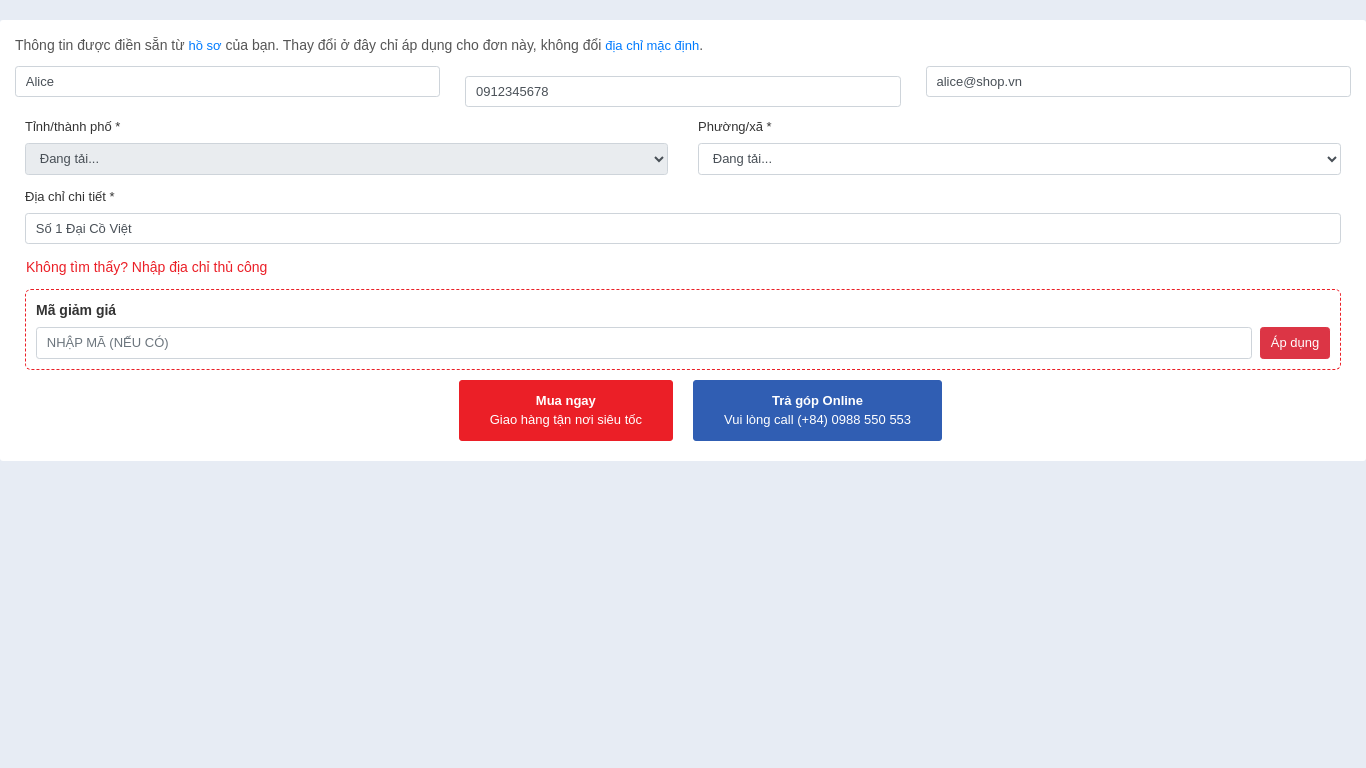
Test case: backend trả 401 khi đặt hàng -> báo phiên hết hạn; lỗi khác hiện thông báo của backend
This screenshot has width=1366, height=768.
Check: the 2nd field named "Số điện thoại (bắt buộc)" holds "0912345678", box 465,76 -> 901,107
Click the button "Mua ngay Giao hàng tận nơi siêu tốc". click: (566, 410)
box: 459,380 -> 673,440
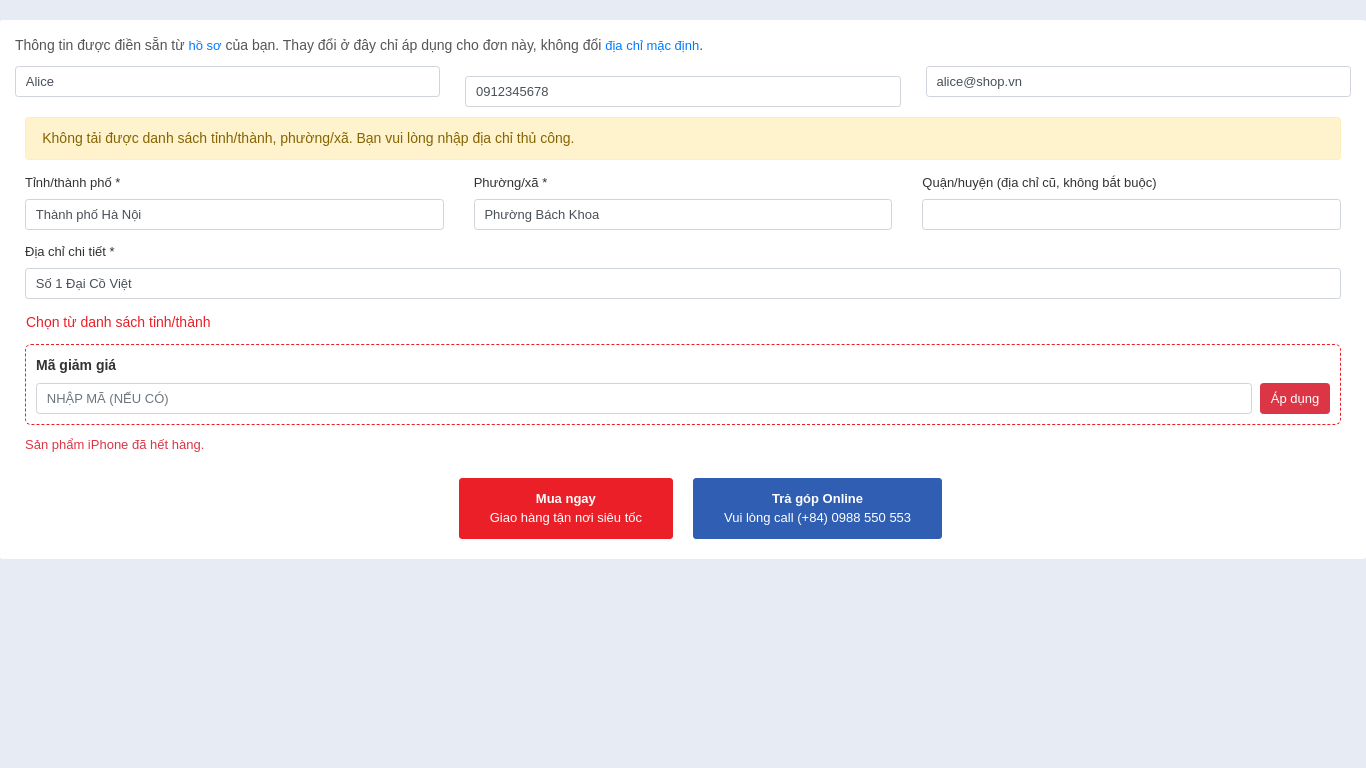
Check: the message "Sản phẩm iPhone đã hết hàng." is shown, box 25,437 -> 204,452
Click the button "Mua ngay Giao hàng tận nơi siêu tốc". click: (566, 508)
box: 459,478 -> 673,538
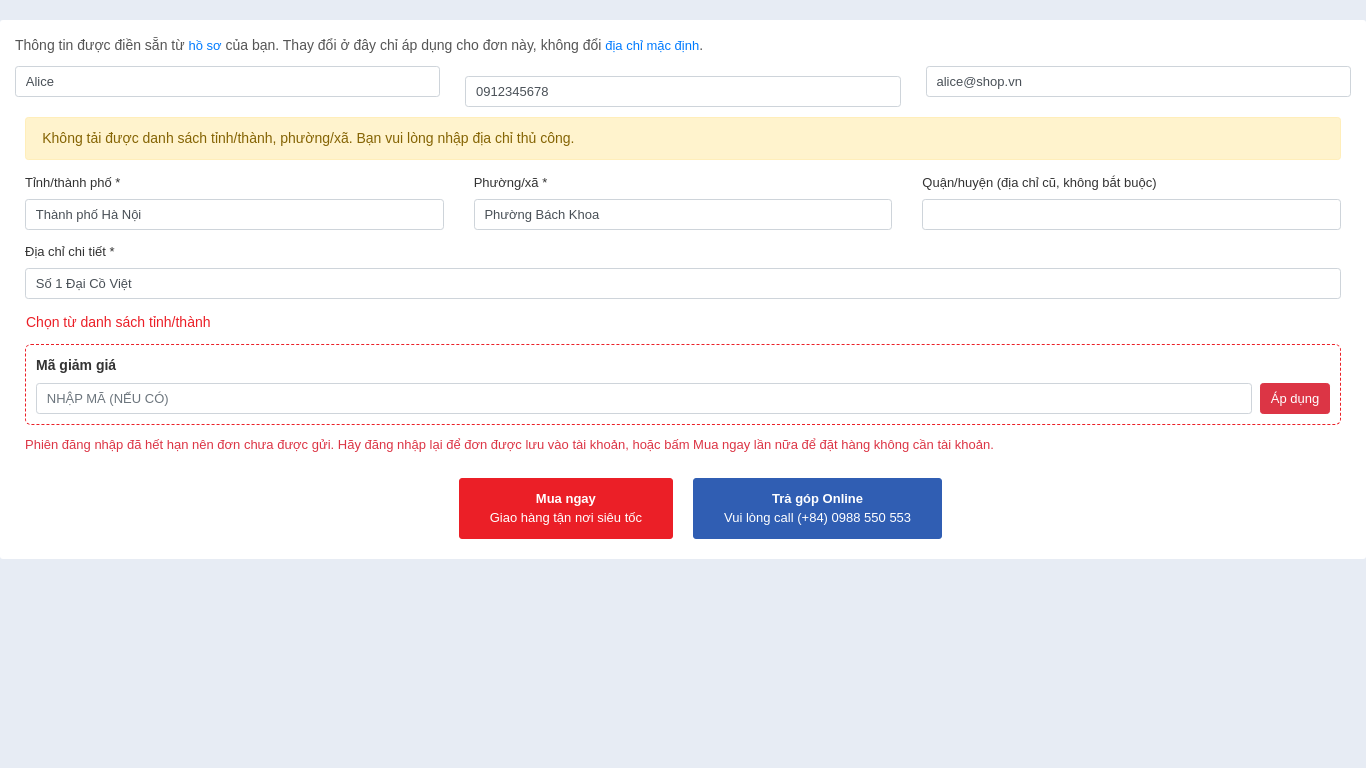
Check: the 2nd message shows "Phiên đăng nhập đã hết hạn", box 25,437 -> 994,452
